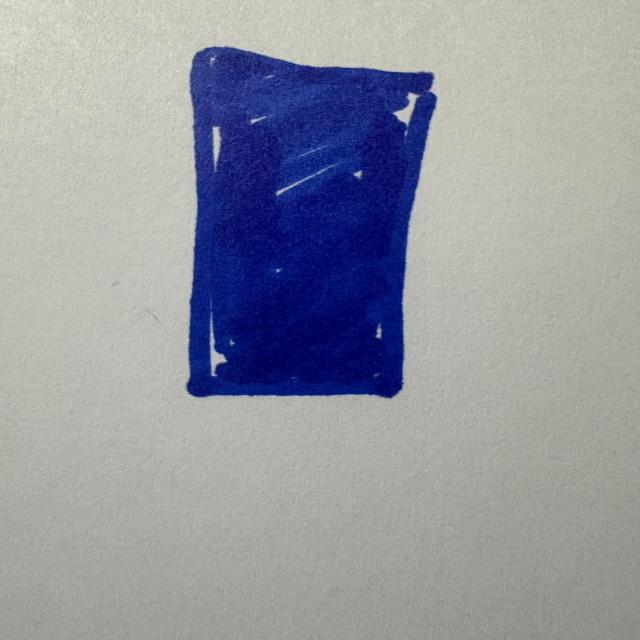Rectangle: (182, 44, 452, 412)
